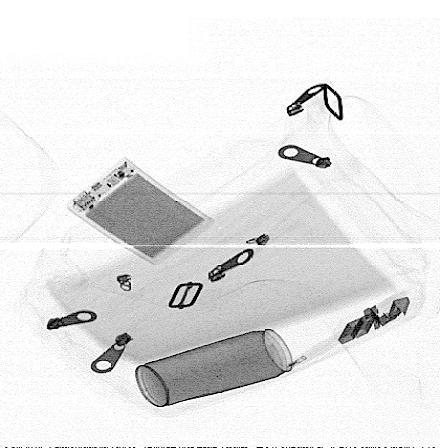Powerbank: (63, 156, 216, 267)
